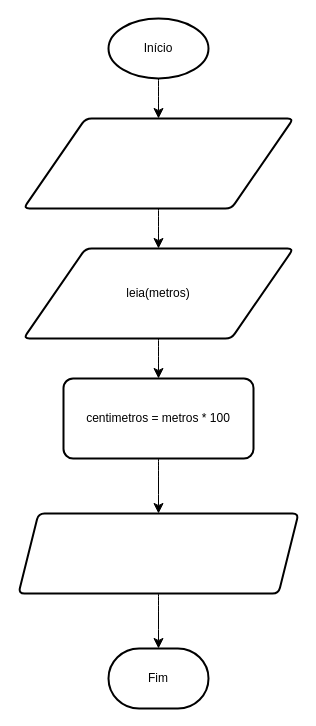
Image size: 316x726. Some labels were removed from this diagram. The shapes that lost their labels are listed below. From the top down, each one's box as (x1, y1, x2, y2) in pixels, then its label:
(22, 117, 294, 209): escreva("Distância em metros: ")
(17, 512, 299, 594): escreva("Equivale a ", centimetros, "cm\n")
